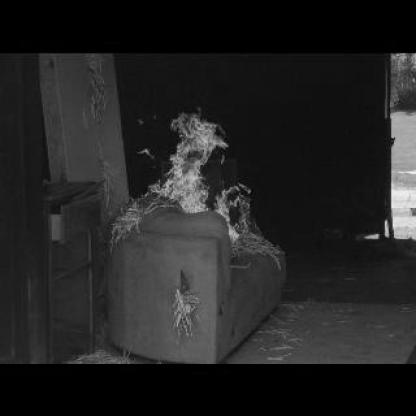fire: (143, 104, 225, 214), (213, 177, 265, 243)
